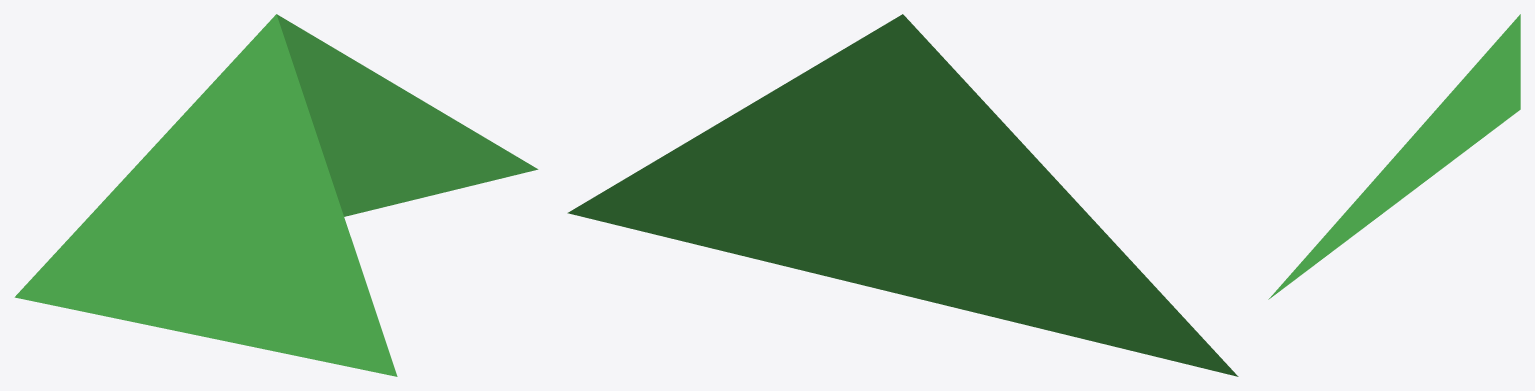
Rendered from seed_morph_animated.fbx.
3 views of the same model, side by side, from view 1: azimuth 30°, elevation 25°; view 2: azimuth 150°, elevation 25°; view 3: azimuth 270°, elevation 25° (orthographic). The views are drawn at different scales.
Visible parts, largest first — view 1: MorphMesh; view 2: MorphMesh; view 3: MorphMesh.
Boxes of the visible parts, x1=… form: MorphMesh: x1=14, y1=14, x2=538, y2=376; MorphMesh: x1=567, y1=14, x2=1238, y2=376; MorphMesh: x1=1268, y1=14, x2=1520, y2=299.
Size of the model in its own units: 2.5 by 1.25 by 1.
